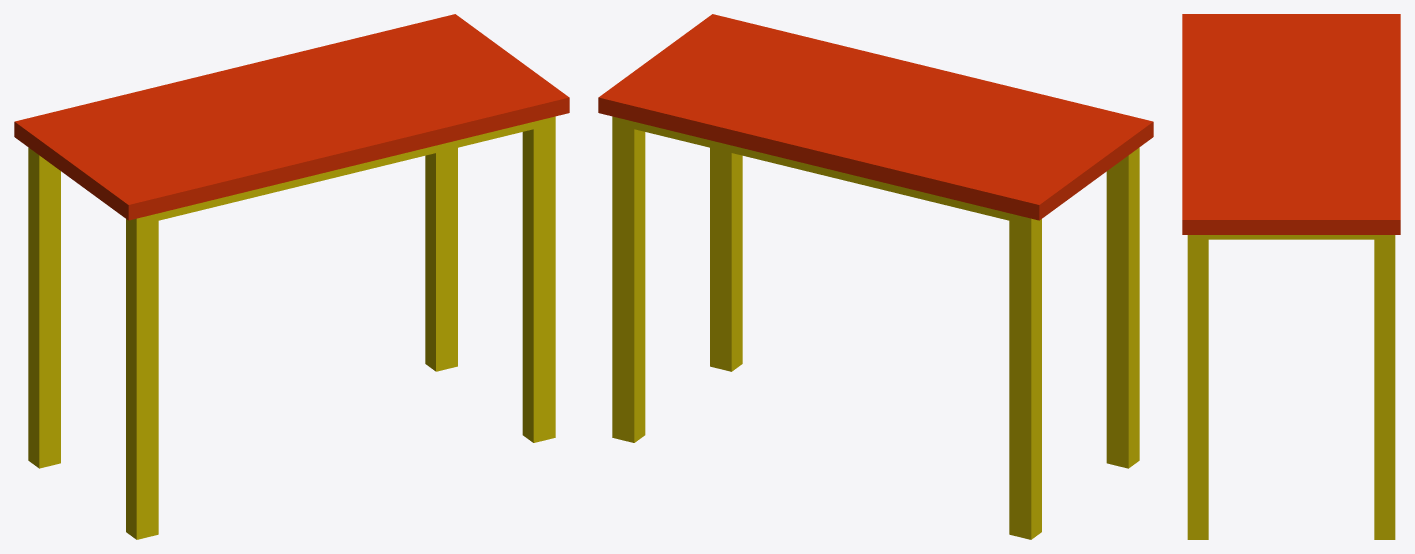
Rendered from WorkTable.fbx.
3 views of the same model, side by side, from view 1: azimuth 30°, elevation 25°; view 2: azimuth 150°, elevation 25°; view 3: azimuth 270°, elevation 25° (orthographic). The views are drawn at different scales.
Parts seen in each view (by area): view 1: WorkTable; view 2: WorkTable; view 3: WorkTable.
Part boxes in pixels (left/top/right/bottom): WorkTable: left=14, top=14, right=569, bottom=539; WorkTable: left=598, top=14, right=1153, bottom=539; WorkTable: left=1182, top=14, right=1400, bottom=539.
Bounding box in the file's own units: 1.41 × 1.04 × 0.6318.
